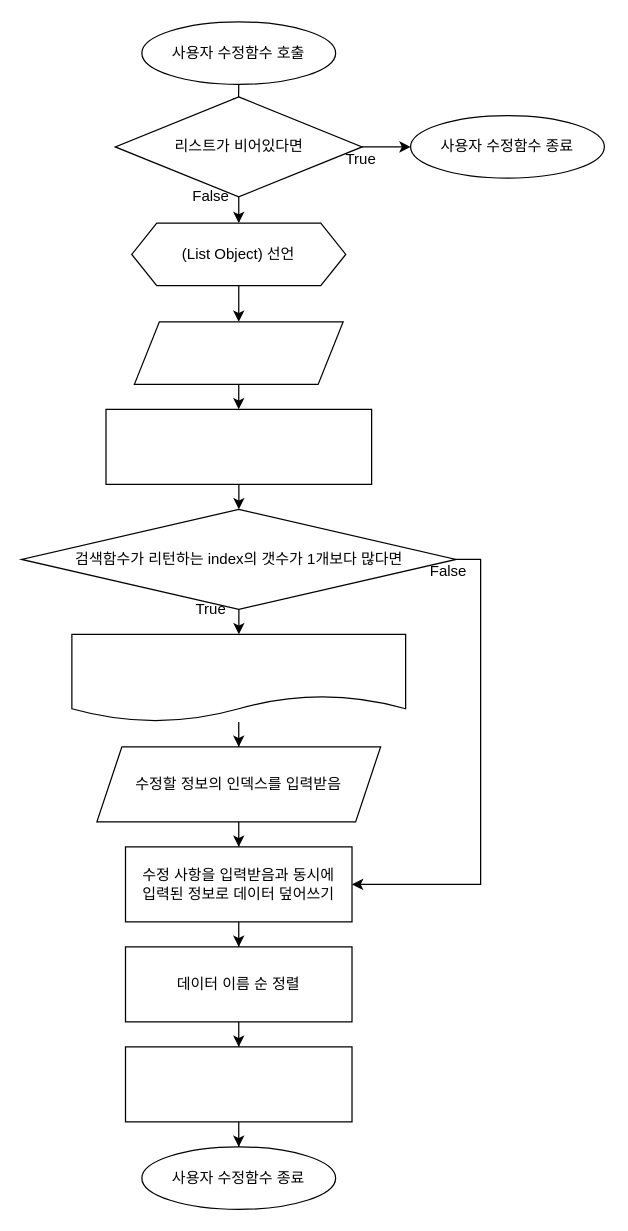
The diagram is 628 pixels wide and 1231 high, and some of its shapes have lost their labels. The centre of each missing label's shape, as x and y in pixels:
"기존에 구현해둔 검색함수에 List, 지금 선언한 Object, Stack을 전달" goes at point 238,446.
"사용자에게 해당 인덱스의 정보를 보여주며, 어떤 정보를 수정할 것인지 확인시킴" goes at point 238,677.
"수정하고 싶은 정보 입력" goes at point 238,352.
"자동 저장함수 실행" goes at point 238,1084.
